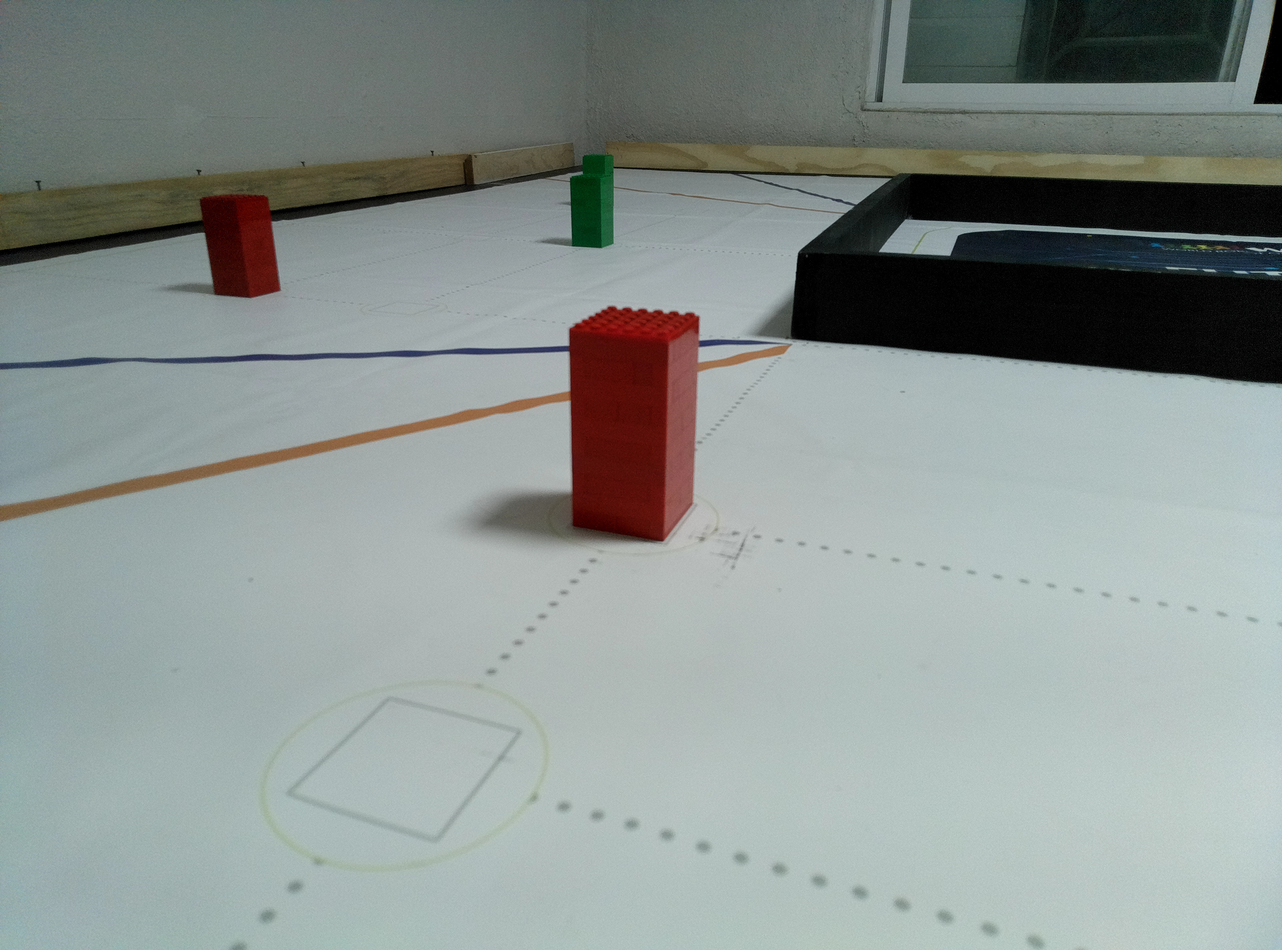greenbox: (570, 175, 614, 248), (582, 154, 614, 175)
redbox: (567, 301, 702, 542), (198, 194, 282, 299)
